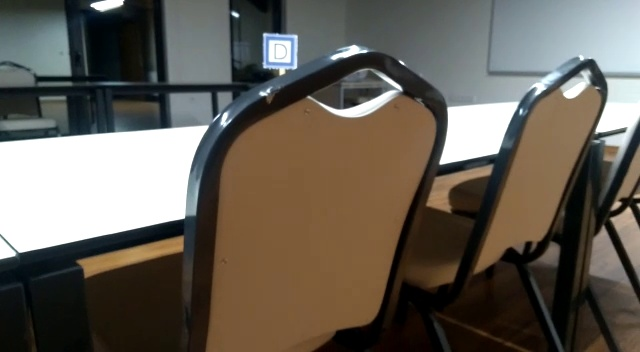durak: (265, 34, 296, 68)
